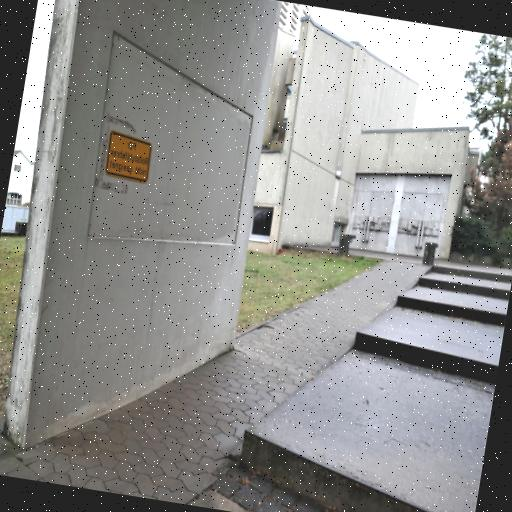ramp: (14, 203, 433, 512)
stairs: (231, 237, 512, 512)
